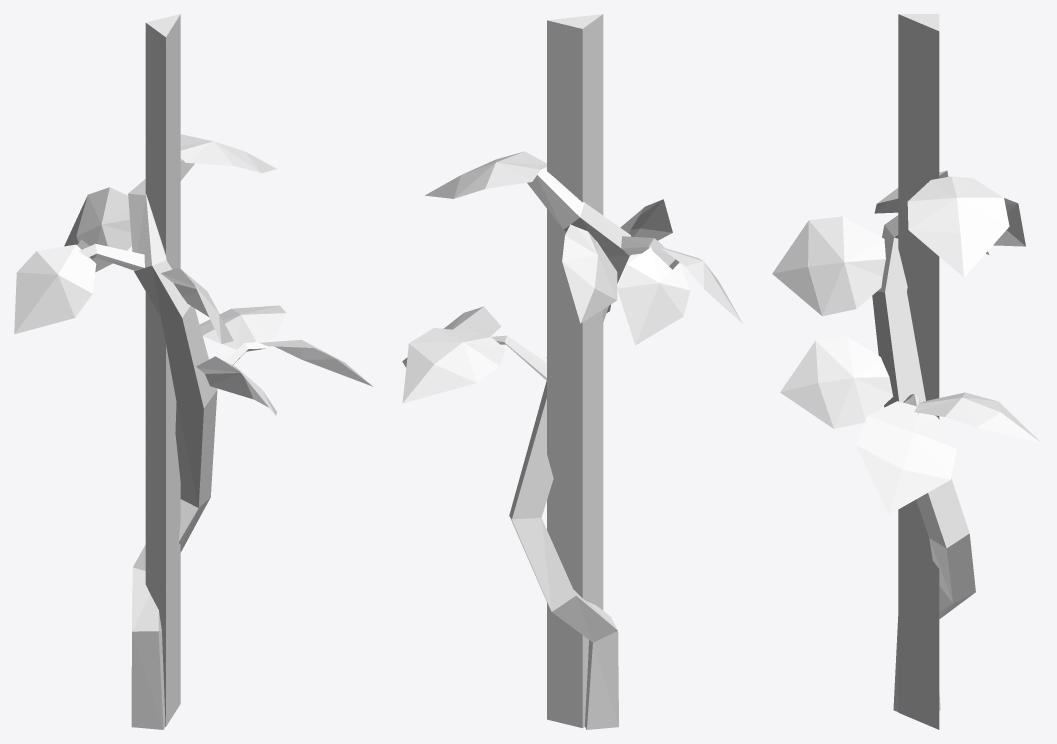
Rendered from Crop_Bean_STAGE_2_01.glb.
The picture shows the model from 3 angles, left to right: view 1: azimuth 30°, elevation 25°; view 2: azimuth 150°, elevation 25°; view 3: azimuth 270°, elevation 25°; orthographic projection.
Visible parts, largest first — view 1: Crop_Bean_STAGE_2_01; view 2: Crop_Bean_STAGE_2_01; view 3: Crop_Bean_STAGE_2_01.
Boxes of the visible parts, x1,y1,x2,y2 form: Crop_Bean_STAGE_2_01: (14,14,373,729); Crop_Bean_STAGE_2_01: (402,14,742,729); Crop_Bean_STAGE_2_01: (772,14,1042,729).
Bounding box in the file's own units: 0.605 × 1.15 × 0.4022.
Materials: 1 (1 with a texture image).
